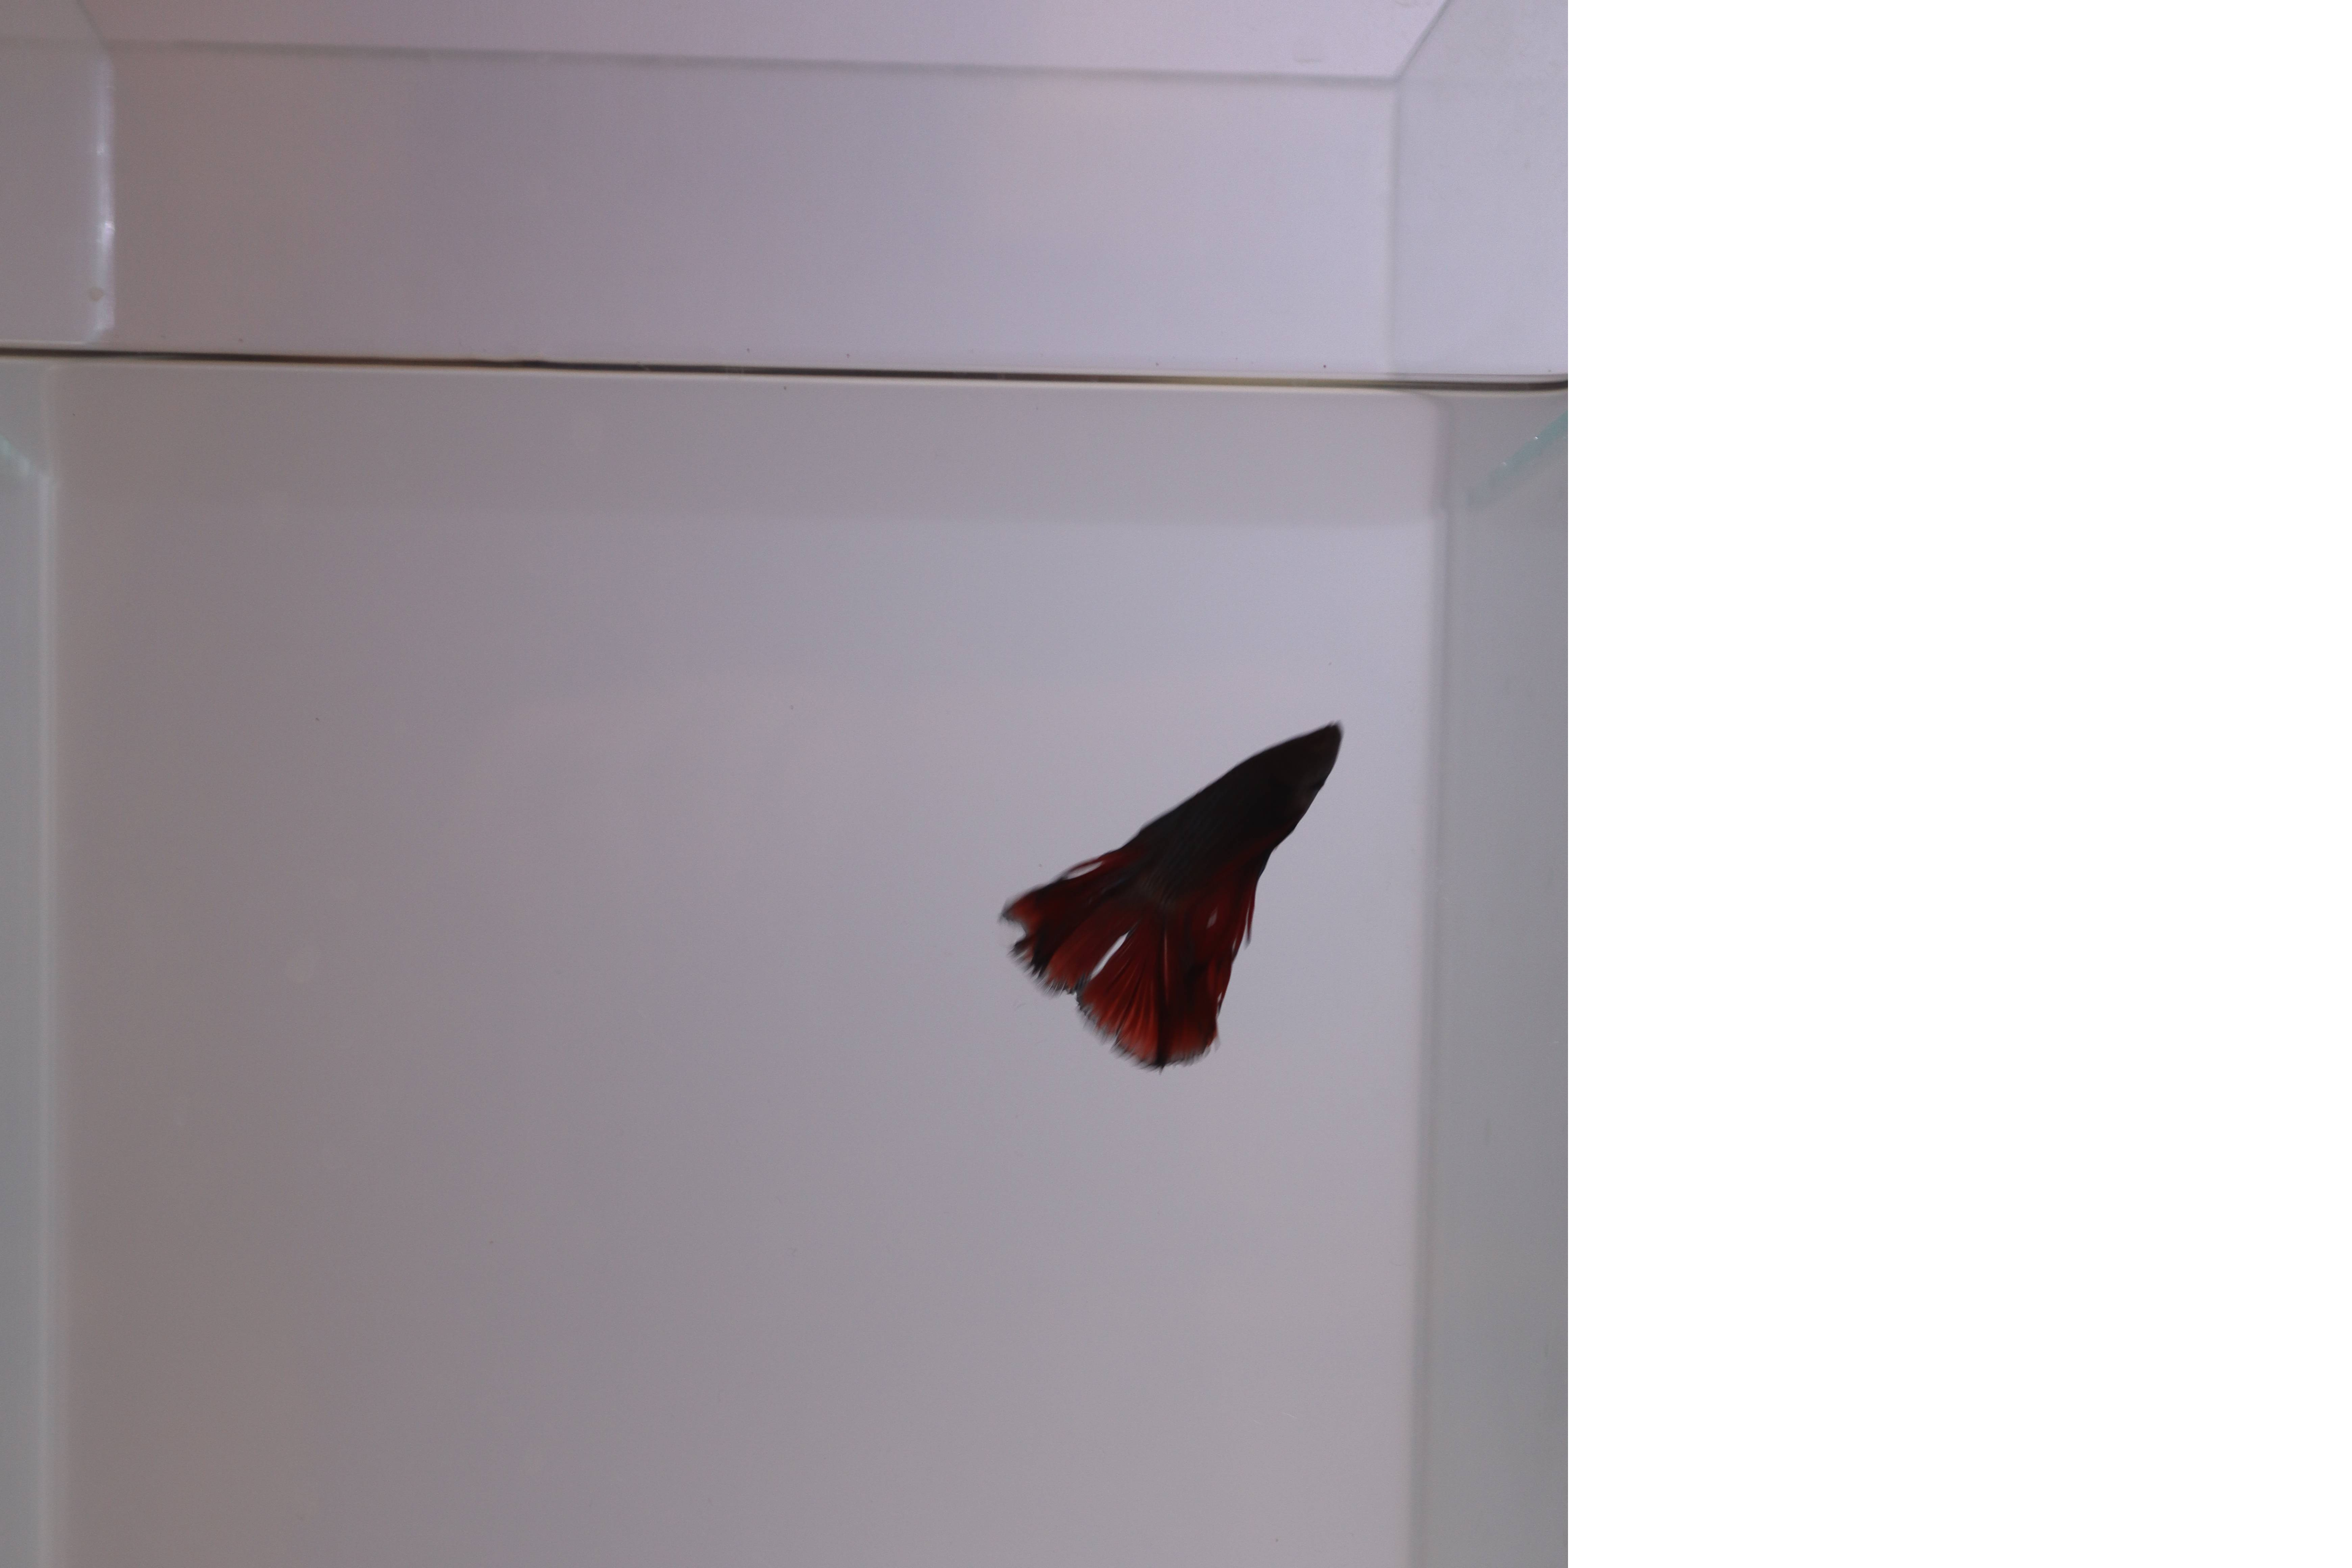fish: (989, 716, 1363, 1092)
